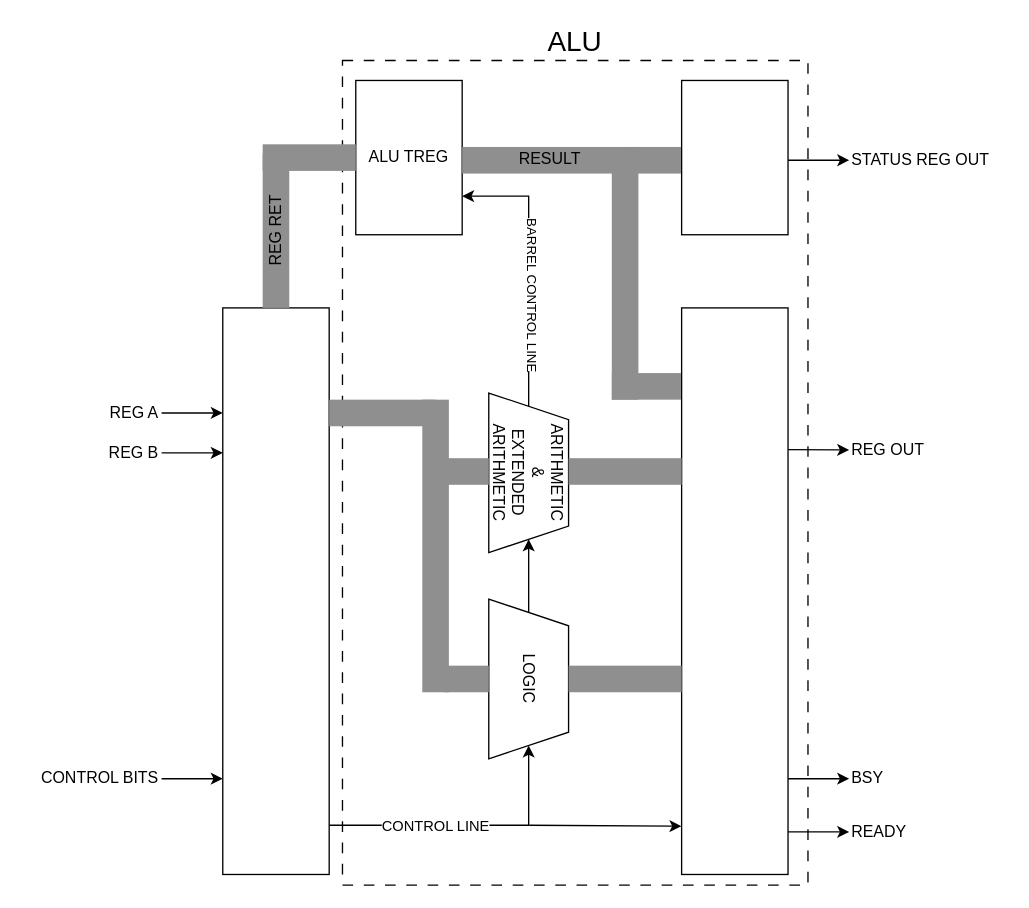
Image size: 1029x908. Some labels were removed from this diagram. Each missing label, with the centre of its shape:
ACCUMULATOR: pixel 734 590
CONTROL UNIT: pixel 275 590
STATUS REG: pixel 734 157
